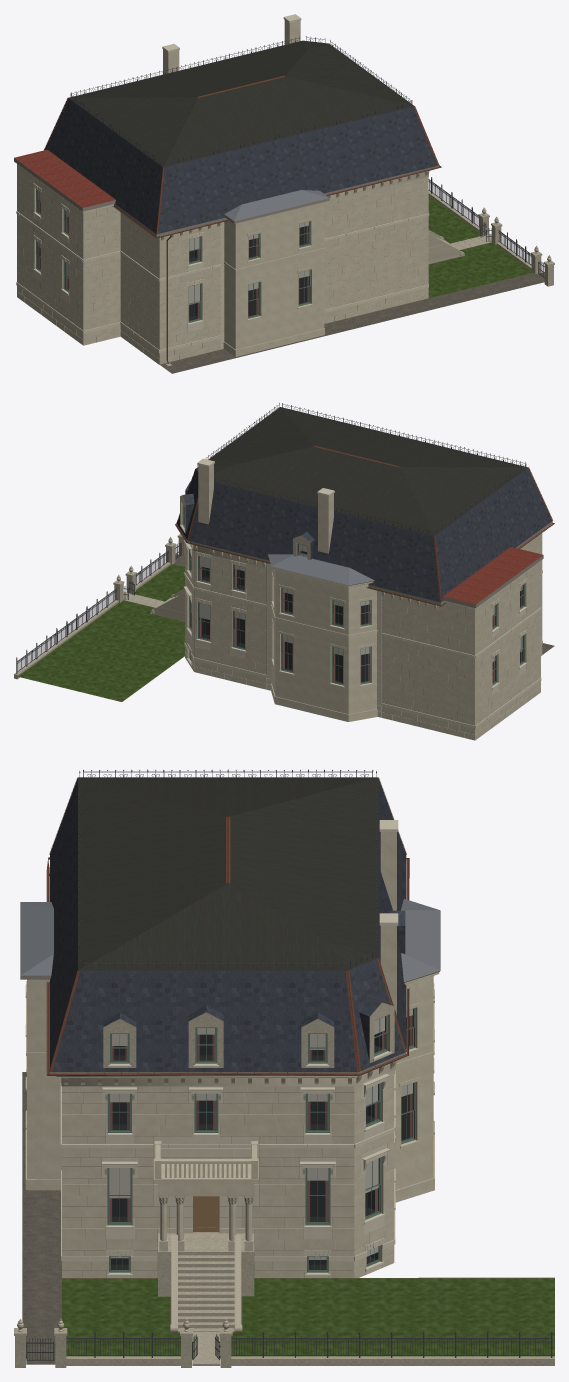
Rendered from ream_house_1901_prairie__as_mapped_1904.glb.
3 renders of one model, top to bottom at view 1: azimuth 30°, elevation 25°; view 2: azimuth 150°, elevation 25°; view 3: azimuth 270°, elevation 25°, orthographic. The views are drawn at different scales.
Visible parts, largest first — view 1: ream_house_1901_prairie__as_mapped_1904; view 2: ream_house_1901_prairie__as_mapped_1904; view 3: ream_house_1901_prairie__as_mapped_1904.
Part boxes in pixels (x1,y1,x2,y2): ream_house_1901_prairie__as_mapped_1904: [14, 14, 554, 373]; ream_house_1901_prairie__as_mapped_1904: [14, 403, 554, 740]; ream_house_1901_prairie__as_mapped_1904: [14, 769, 554, 1367].
Size of the model in its own units: 35 by 17.15 by 24.73.
Materials: 24 (13 with a texture image).
